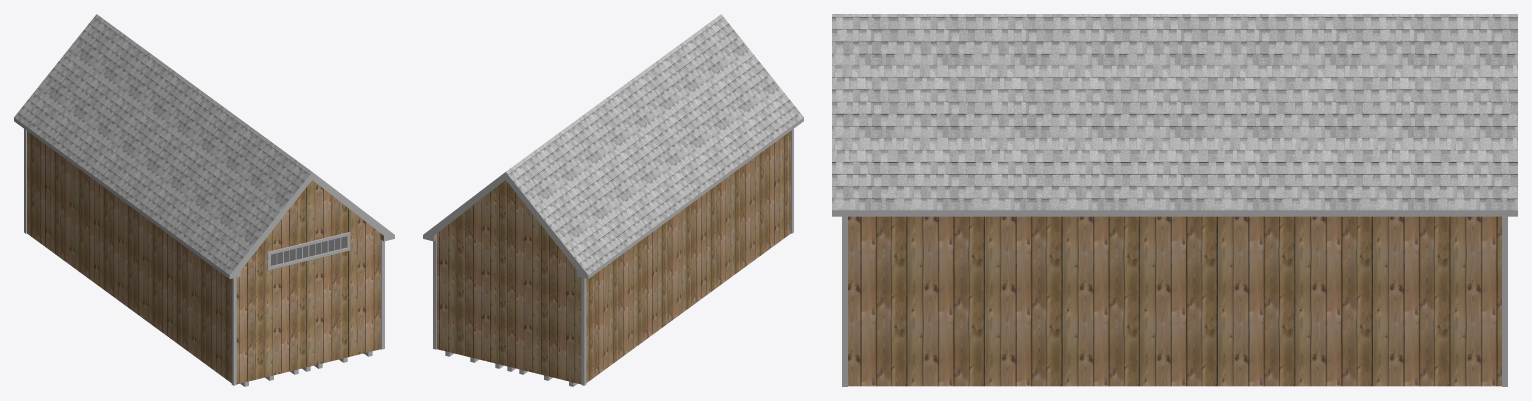
The model's file is Elite Garage_12x28.obj.
The picture shows the model from 3 angles, left to right: view 1: azimuth 30°, elevation 25°; view 2: azimuth 150°, elevation 25°; view 3: azimuth 270°, elevation 25°; orthographic projection. The views are drawn at different scales.
Parts seen in each view (by area): view 1: Shed, Roof, Sides, Trim, Windows; view 2: Shed, Roof, Sides, Trim; view 3: Roof, Shed, Sides, Trim.
Part boxes in pixels (x1,y1,x2,y2): Shed: (27,131,383,384); Roof: (14,14,311,274); Sides: (14,117,394,278); Trim: (24,129,384,385); Windows: (271,236,346,265); Shed: (434,131,790,384); Roof: (506,14,803,274); Sides: (423,117,803,278); Trim: (433,129,793,385); Roof: (832,14,1517,210); Shed: (848,216,1501,386); Sides: (832,210,1517,216); Trim: (842,216,1507,386).
Size of the model in its own units: 3.91 by 4.57 by 8.84.
